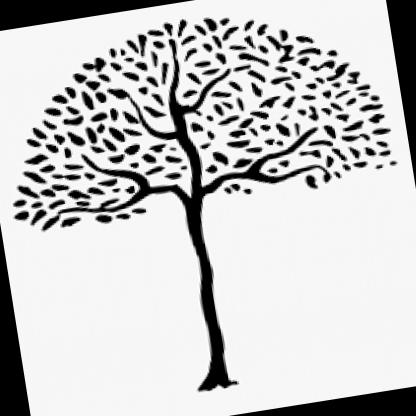trunk_reflex: (184, 222, 230, 364)
